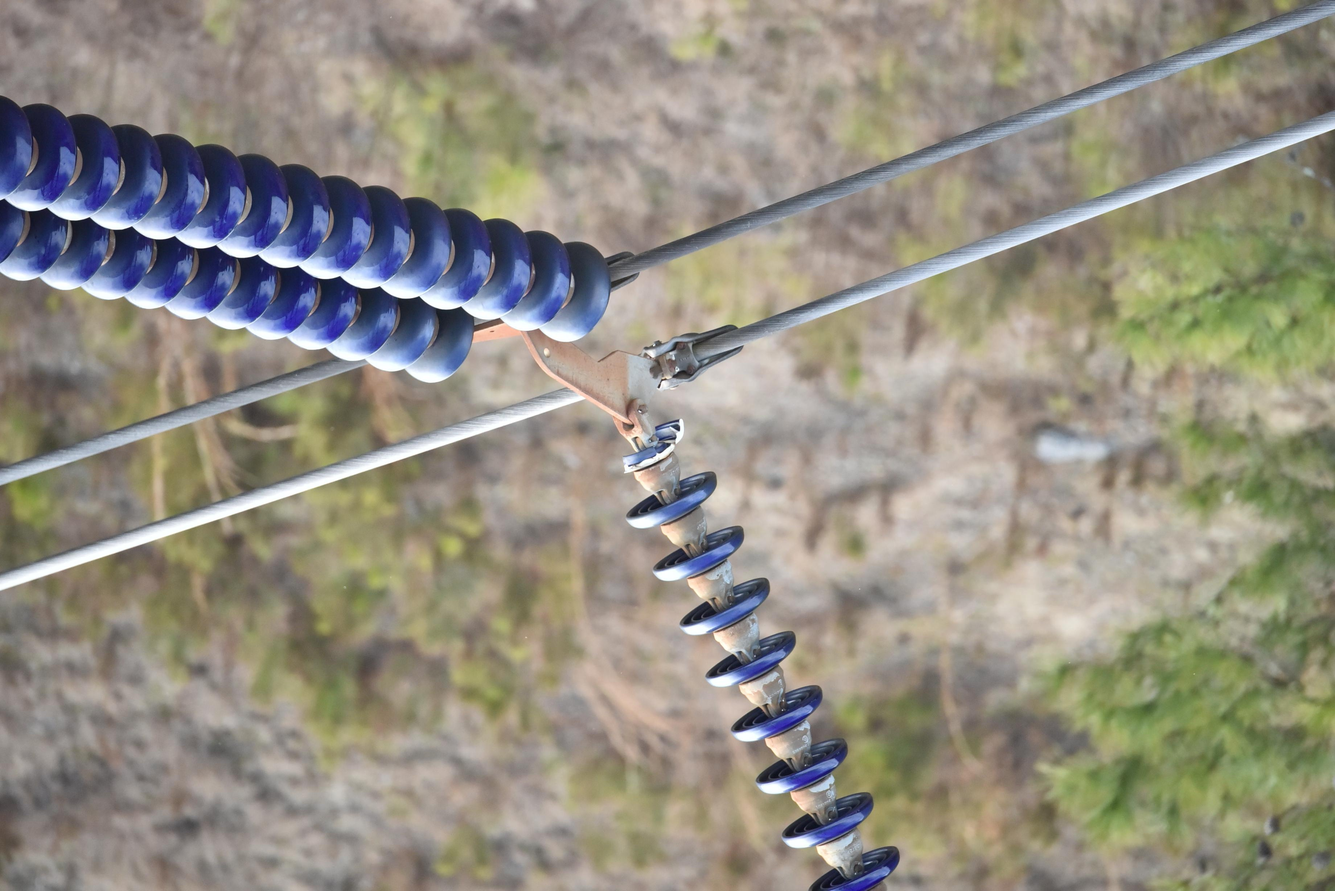damaged: (621, 419, 690, 475)
insulator: (0, 97, 610, 342), (620, 420, 900, 891), (0, 209, 472, 385)
